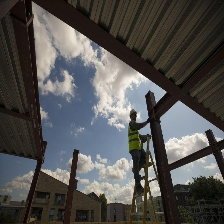person: (126, 107, 149, 197)
vest: (128, 122, 143, 155)
